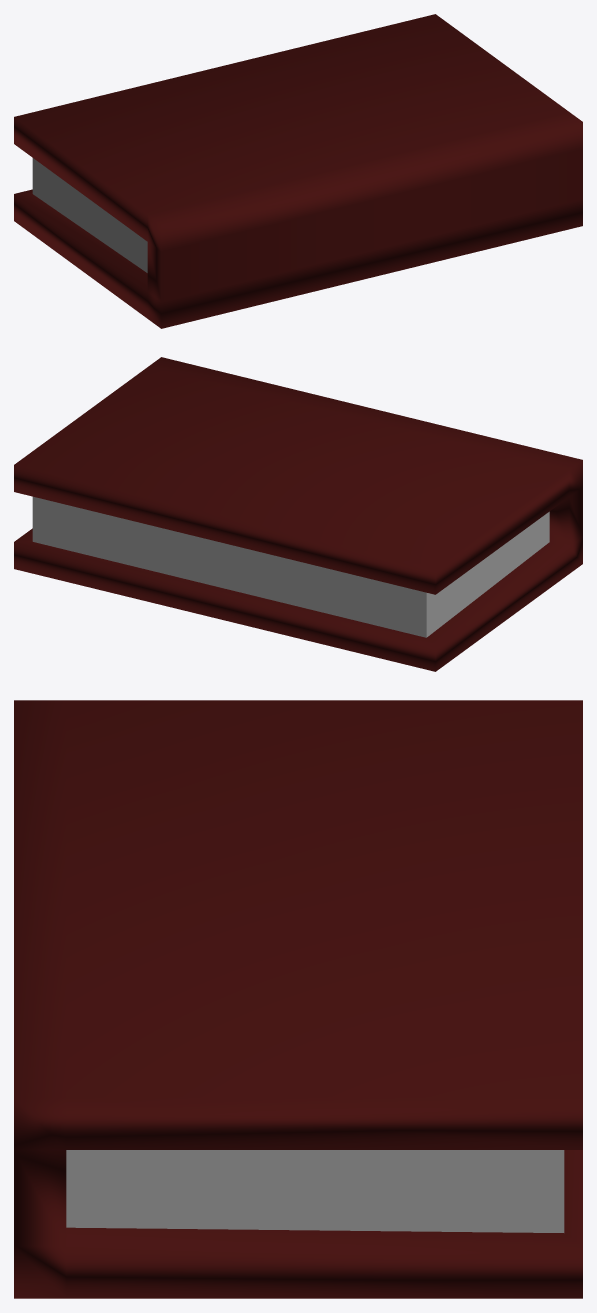
Rendered from RedBook.fbx.
3 views of the same model, one above another, from view 1: azimuth 30°, elevation 25°; view 2: azimuth 150°, elevation 25°; view 3: azimuth 270°, elevation 25° (orthographic). The views are drawn at different scales.
Visible parts, largest first — view 1: Cube; view 2: Cube; view 3: Cube.
Part boxes in pixels (box(x1,y1,x2,y2)): Cube: box(14, 14, 582, 328); Cube: box(14, 357, 582, 671); Cube: box(14, 700, 582, 1298).
Size of the model in its own units: 330 by 77.95 by 200.
